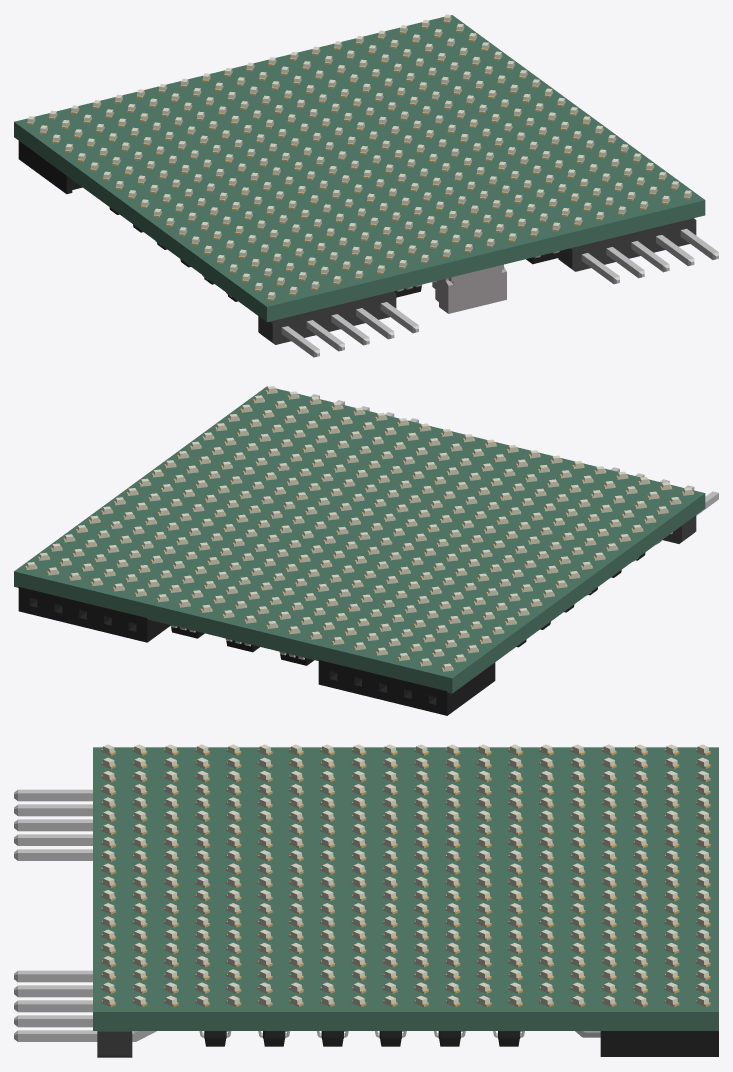
Rendered from panel_rp2354_20x20-v0.4.2.glb.
The picture shows the model from 3 angles, top to bottom: view 1: azimuth 30°, elevation 25°; view 2: azimuth 150°, elevation 25°; view 3: azimuth 270°, elevation 25°; orthographic projection. The views are drawn at different scales.
Visible parts, largest first — view 1: =>[0:1:1:15], insulation_001 (×2), J1, J5; view 2: =>[0:1:1:15], J5, J4; view 3: =>[0:1:1:15], J4, pin_005 (×2), pin_001 (×2), pin_002 (×2), pin_003 (×2), pin_004 (×2), insulation_001.
Part boxes in pixels (x1=…): =>[0:1:1:15]: x1=14, y1=15, x2=705, y2=322; insulation_001 (×2): x1=258, y1=218, x2=696, y2=344; J1: x1=432, y1=264, x2=506, y2=313; J5: x1=18, y1=141, x2=82, y2=194; =>[0:1:1:15]: x1=14, y1=386, x2=705, y2=693; J5: x1=318, y1=660, x2=495, y2=715; J4: x1=18, y1=587, x2=170, y2=642; =>[0:1:1:15]: x1=93, y1=747, x2=718, y2=1030; J4: x1=575, y1=1031, x2=718, y2=1056; pin_005 (×2): x1=14, y1=849, x2=156, y2=1041; pin_001 (×2): x1=14, y1=789, x2=92, y2=982; pin_002 (×2): x1=14, y1=804, x2=92, y2=997; pin_003 (×2): x1=14, y1=819, x2=92, y2=1012; pin_004 (×2): x1=14, y1=834, x2=92, y2=1027; insulation_001: x1=97, y1=1031, x2=132, y2=1057.
Size of the model in its own units: 0.045 by 0.00643 by 0.0507.
